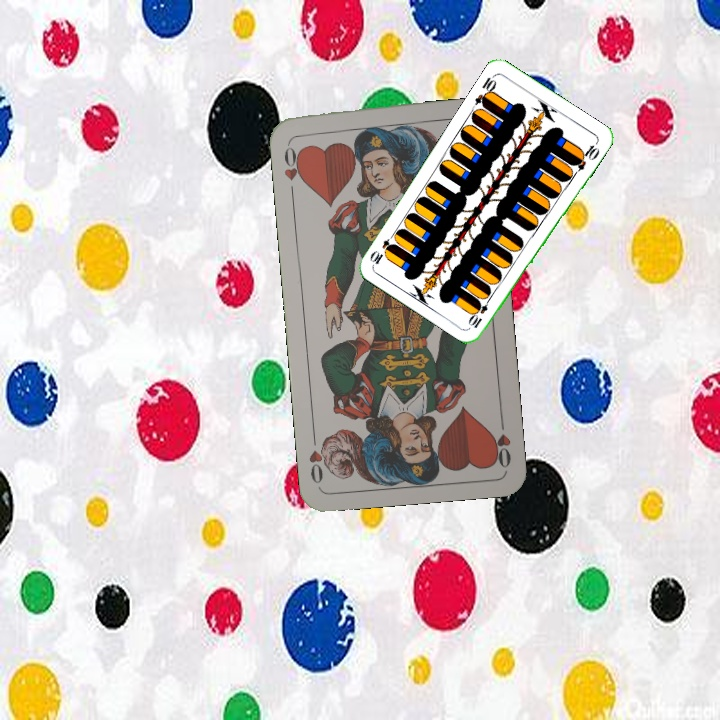E10: (470, 71, 499, 110), (466, 293, 494, 331)
HO: (280, 138, 307, 197), (488, 411, 514, 470)
